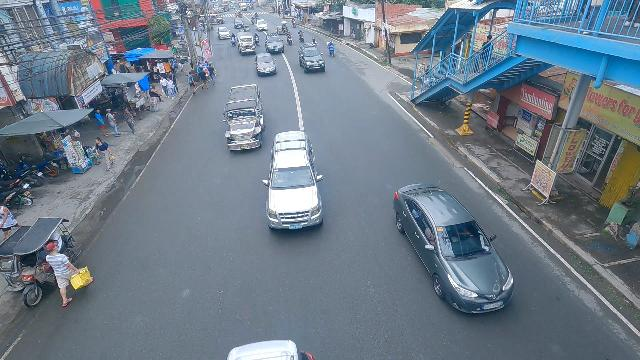bus: (233, 18, 245, 30)
car: (394, 179, 517, 316), (263, 130, 327, 234), (298, 43, 326, 73), (255, 53, 277, 77), (216, 26, 231, 40), (255, 19, 268, 32)
jeepney: (222, 83, 264, 153), (236, 32, 256, 55), (207, 10, 225, 25)
motorcycle: (327, 40, 335, 58), (286, 31, 294, 46), (297, 29, 305, 43), (230, 33, 237, 47), (254, 33, 260, 47), (311, 37, 317, 46), (291, 18, 296, 27), (251, 16, 255, 24)
truck: (264, 34, 285, 54)
